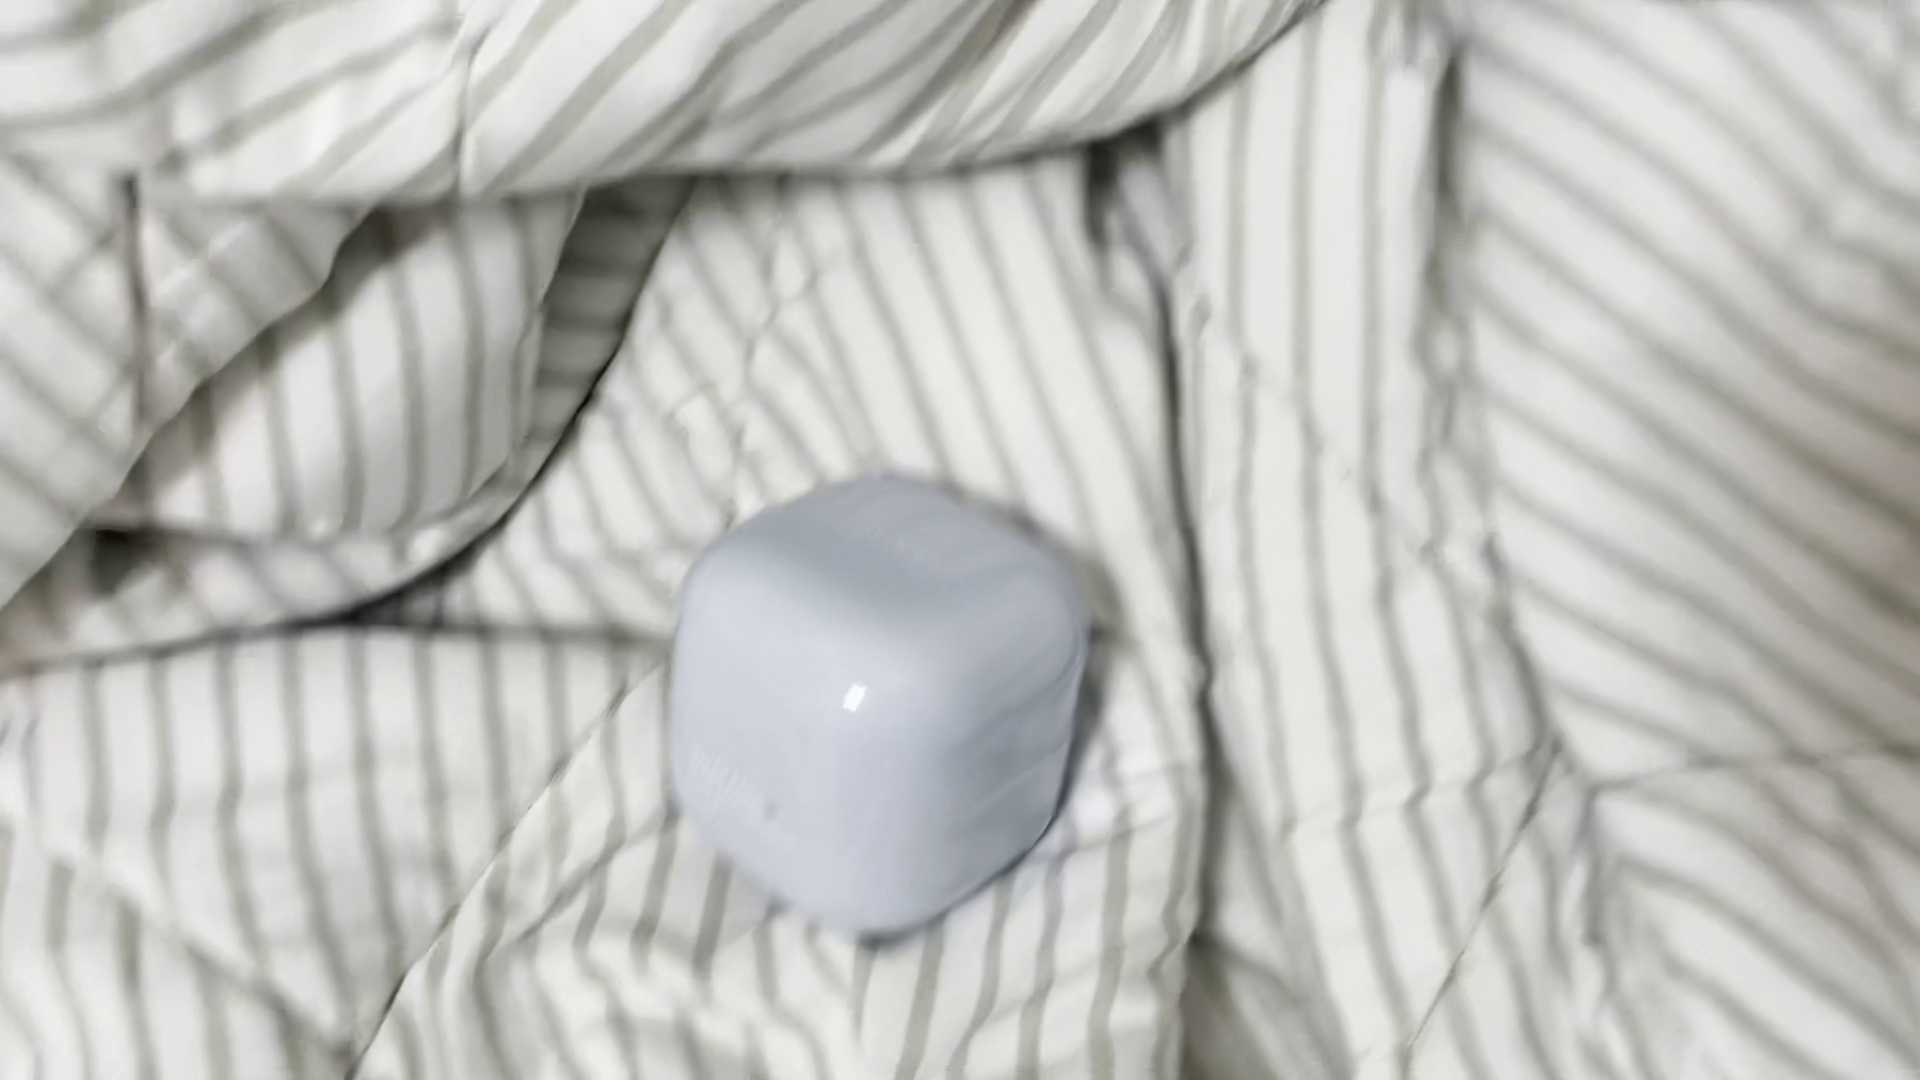cream: (669, 473, 1081, 928)
